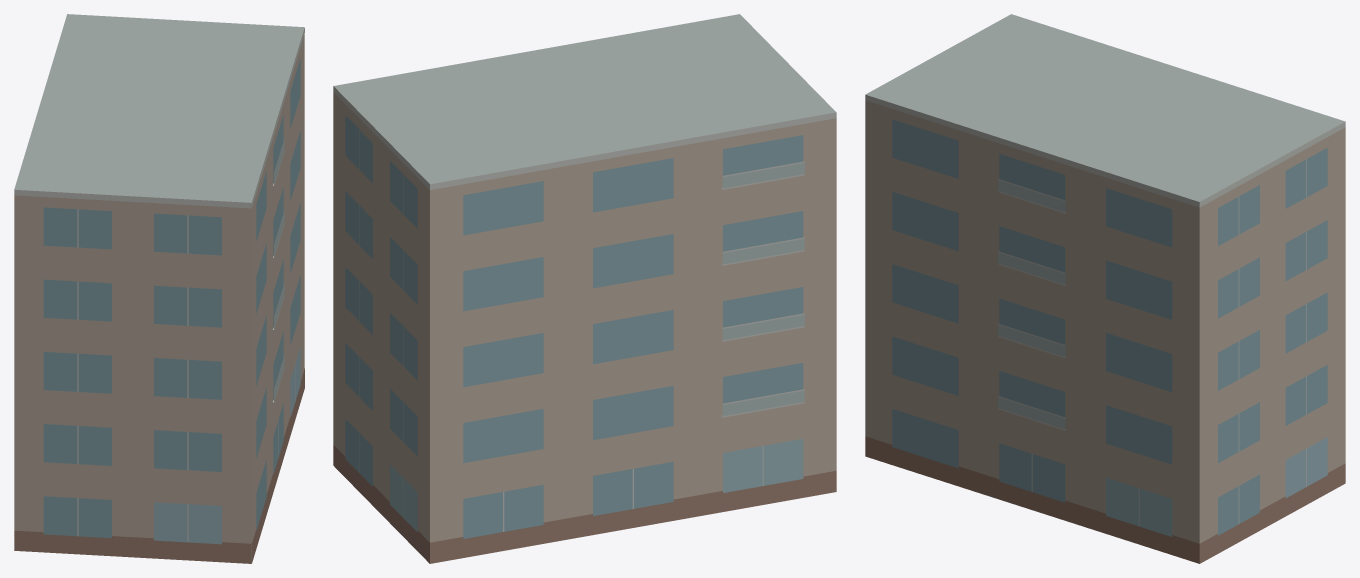
File: survey-upis-32574598.glb
3 renders of one model, left to right at view 1: azimuth 30°, elevation 25°; view 2: azimuth 150°, elevation 25°; view 3: azimuth 270°, elevation 25°, orthographic. The views are drawn at different scales.
Parts seen in each view (by area): view 1: survey-upis-32574598.tmp; view 2: survey-upis-32574598.tmp; view 3: survey-upis-32574598.tmp.
Boxes of the visible parts, x1=… form: survey-upis-32574598.tmp: x1=14, y1=14, x2=304, y2=563; survey-upis-32574598.tmp: x1=333, y1=14, x2=836, y2=563; survey-upis-32574598.tmp: x1=865, y1=14, x2=1345, y2=563.
Size of the model in its own units: 17.73 by 15.9 by 19.14.
